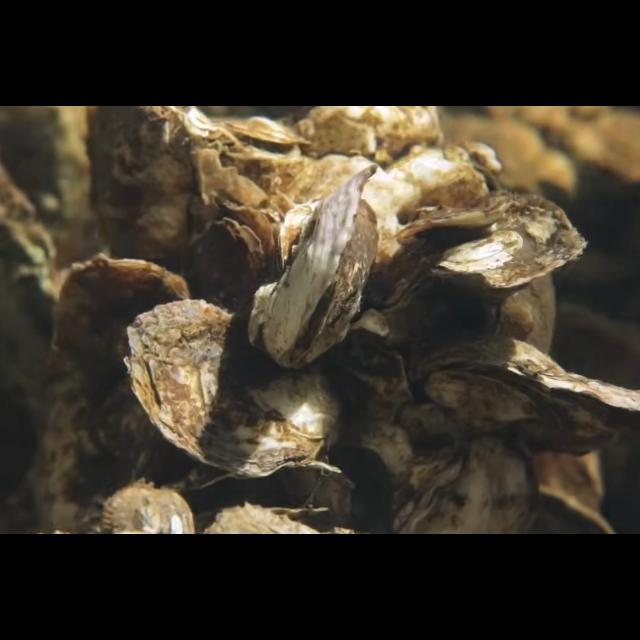Oyster-Closed: (40, 253, 192, 534), (123, 298, 344, 480), (378, 192, 588, 331), (246, 164, 380, 370), (86, 106, 218, 274), (387, 431, 539, 535), (185, 218, 265, 312)
Oyster-Open: (408, 337, 640, 458), (175, 459, 342, 518), (213, 114, 307, 166)
